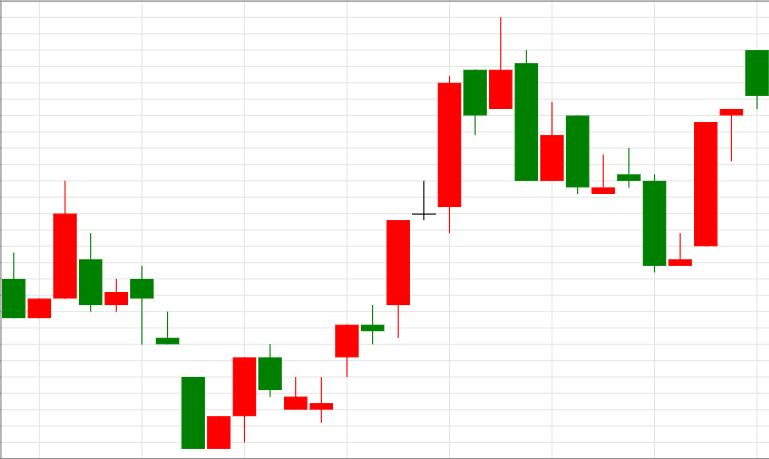shooting_star_fall: (309, 18, 513, 422)
